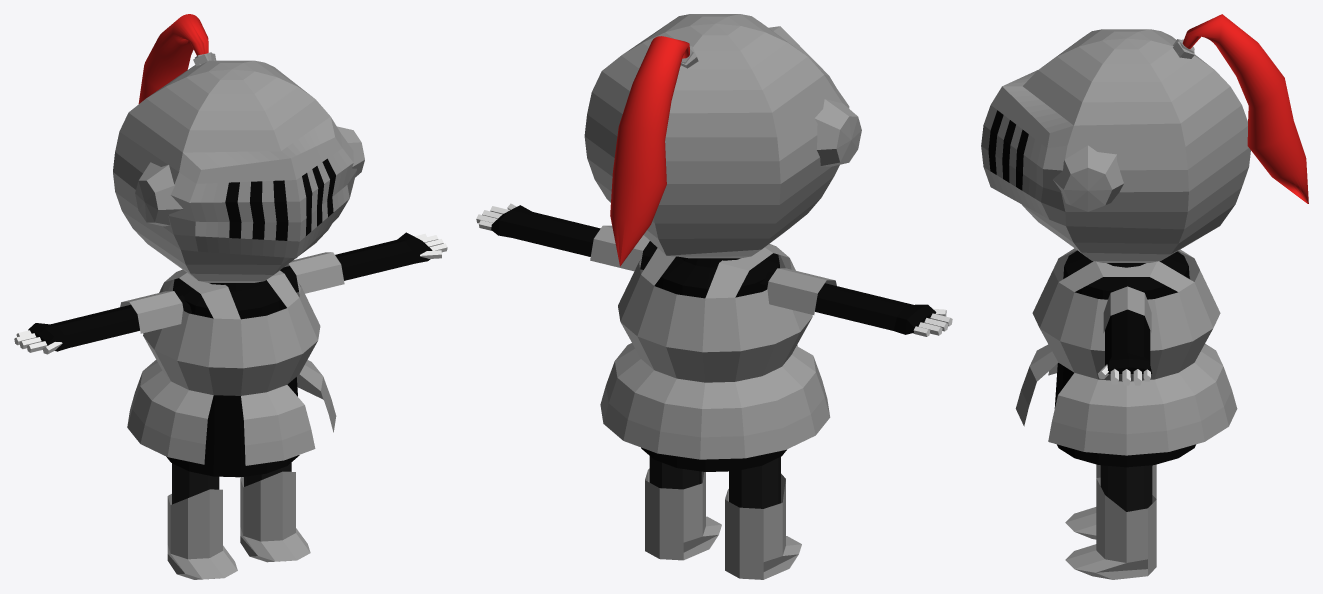
Rendered from knight.fbx.
3 renders of one model, left to right at view 1: azimuth 30°, elevation 25°; view 2: azimuth 150°, elevation 25°; view 3: azimuth 270°, elevation 25°, orthographic. The views are drawn at different scales.
Parts seen in each view (by area): view 1: head, body_armor, leg_armor, body, arm, arm.001, leg; view 2: head, body_armor, leg_armor, arm, body, arm.001, leg; view 3: head, body_armor, leg_armor, body, arm, leg, arm.001.
Boxes of the visible parts, x1=… form: head: x1=113, y1=14, x2=364, y2=282; body_armor: x1=127, y1=269, x2=336, y2=465; leg_armor: x1=167, y1=471, x2=310, y2=579; body: x1=166, y1=278, x2=299, y2=477; arm: x1=28, y1=232, x2=432, y2=351; arm.001: x1=120, y1=252, x2=344, y2=333; leg: x1=172, y1=462, x2=291, y2=504; head: x1=584, y1=14, x2=861, y2=266; body_armor: x1=600, y1=244, x2=830, y2=459; leg_armor: x1=645, y1=468, x2=801, y2=579; arm: x1=491, y1=205, x2=936, y2=334; body: x1=641, y1=253, x2=786, y2=471; arm.001: x1=590, y1=225, x2=836, y2=314; leg: x1=649, y1=456, x2=780, y2=508; head: x1=981, y1=14, x2=1308, y2=262; body_armor: x1=1015, y1=248, x2=1237, y2=455; leg_armor: x1=1065, y1=464, x2=1156, y2=579; body: x1=1054, y1=250, x2=1195, y2=467; arm: x1=1105, y1=309, x2=1151, y2=373; leg: x1=1100, y1=465, x2=1152, y2=511; arm.001: x1=1103, y1=286, x2=1151, y2=332.
Size of the model in its own units: 408 by 470 by 262.
